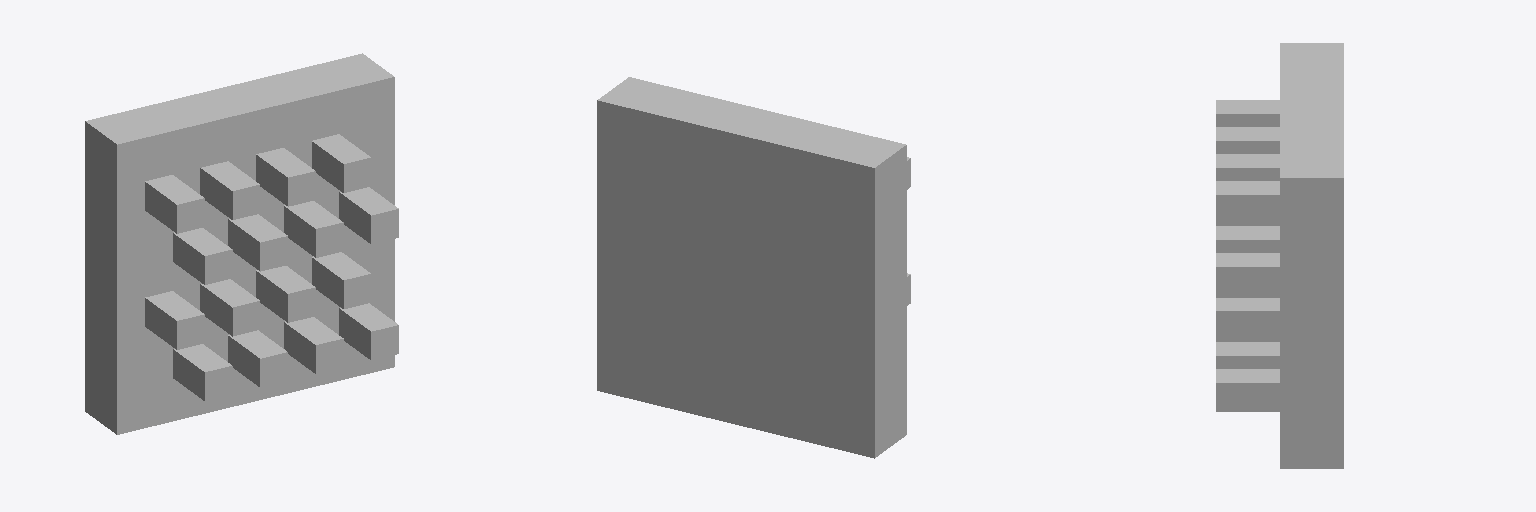
File: Spik.obj
3 views of the same model, side by side, from view 1: azimuth 30°, elevation 25°; view 2: azimuth 150°, elevation 25°; view 3: azimuth 270°, elevation 25° (orthographic).
Parts seen in each view (by area): view 1: Body1; view 2: Body1; view 3: Body1.
Part boxes in pixels (left/top/right/bottom): Body1: left=85, top=53, right=398, bottom=434; Body1: left=597, top=77, right=910, bottom=458; Body1: left=1216, top=43, right=1343, bottom=468.
Bounding box in the file's own units: 50 × 50 × 20.